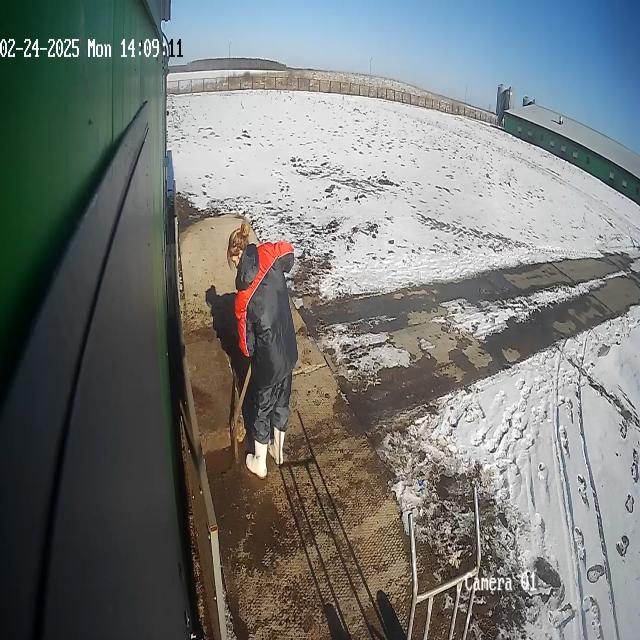Red uniform: (233, 238, 299, 450)
